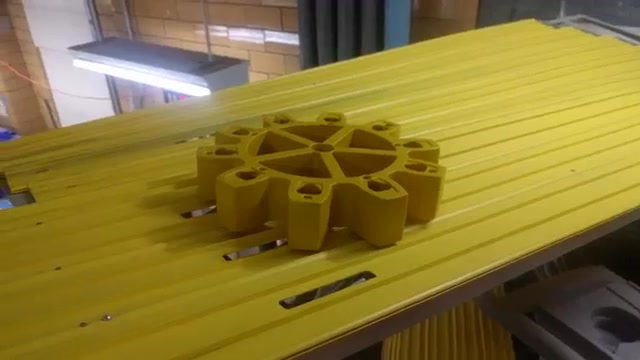gear: (195, 114, 456, 252)
